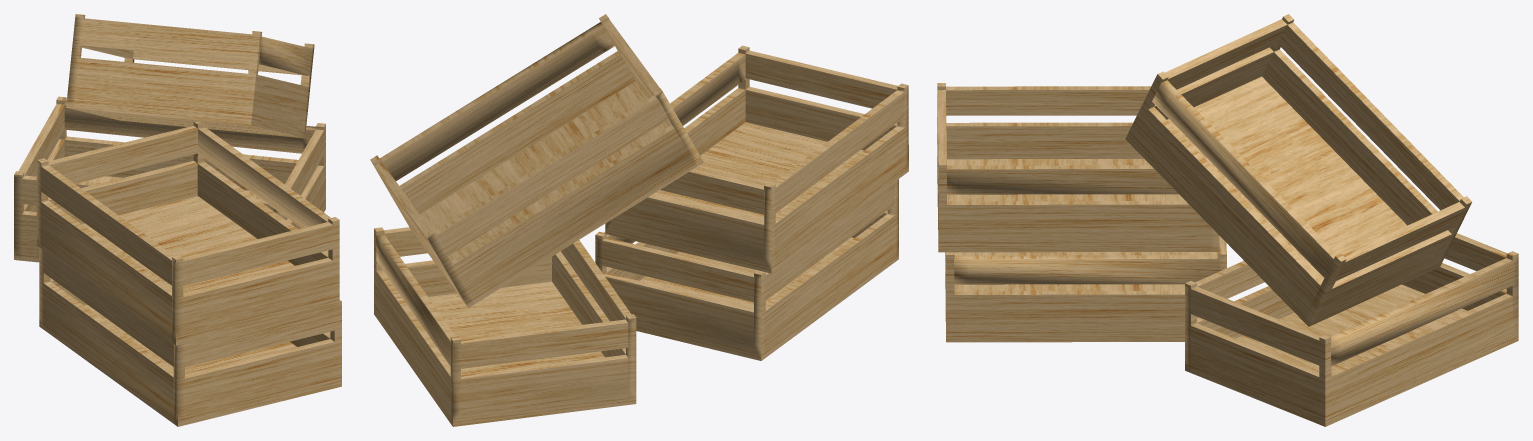
The model's file is Stack_of_Crates.fbx.
3 renders of one model, left to right at view 1: azimuth 30°, elevation 25°; view 2: azimuth 150°, elevation 25°; view 3: azimuth 270°, elevation 25°, orthographic. The views are drawn at different scales.
Visible parts, largest first — view 1: Stack_of_Crates; view 2: Stack_of_Crates; view 3: Stack_of_Crates.
Part boxes in pixels (x1,y1,x2,y2): Stack_of_Crates: [14, 14, 341, 426]; Stack_of_Crates: [370, 14, 908, 426]; Stack_of_Crates: [937, 14, 1518, 426].
Bounding box in the file's own units: 78.71 × 60.3 × 114.
Materials: 1 (1 with a texture image).
